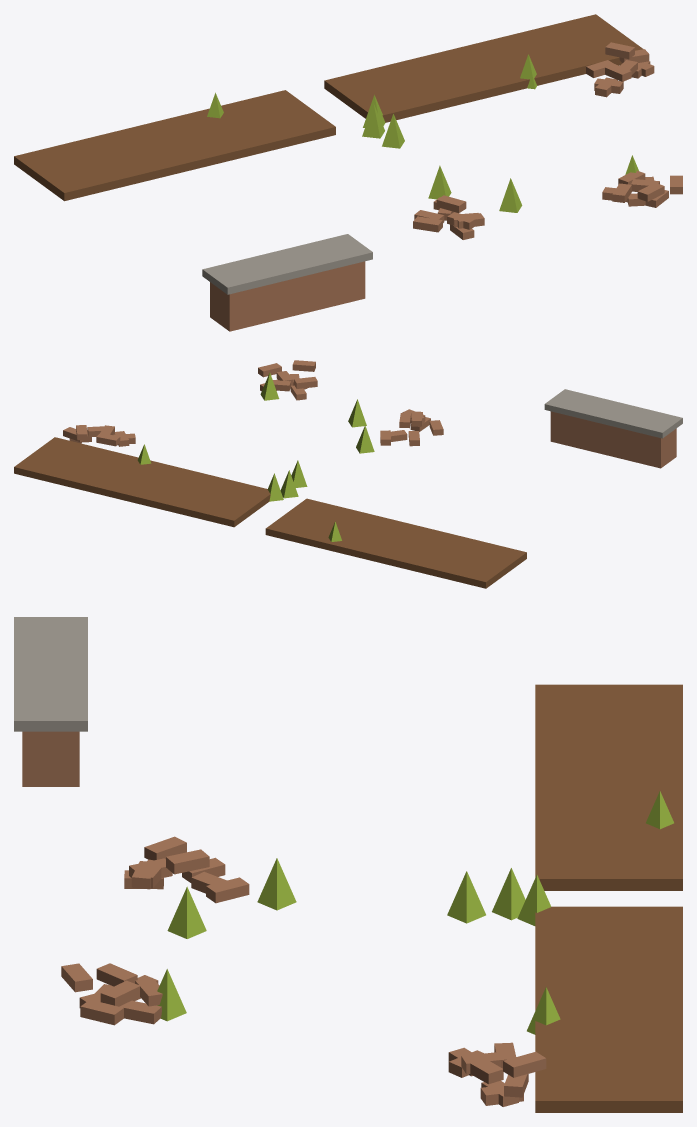
The model's file is garden_broken.gltf.
3 views of the same model, one above another, from view 1: azimuth 30°, elevation 25°; view 2: azimuth 150°, elevation 25°; view 3: azimuth 270°, elevation 25° (orthographic). The views are drawn at different scales.
Visible parts, largest first — view 1: garden_broken; view 2: garden_broken; view 3: garden_broken.
Boxes of the visible parts, x1,y1,x2,y2 form: garden_broken: [14, 14, 682, 331]; garden_broken: [14, 360, 682, 588]; garden_broken: [14, 617, 682, 1112].
Bounding box in the file's own units: 6.15 × 0.465 × 4.08.
